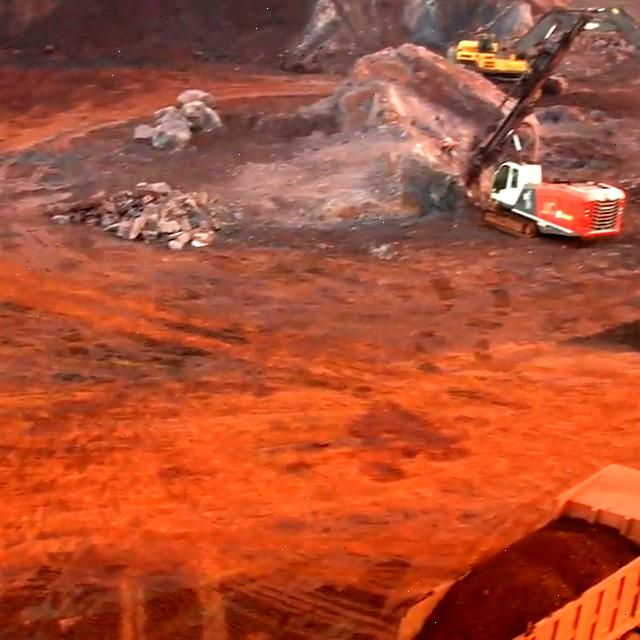Blast rig: (490, 164, 623, 237)
Dumper truck: (551, 492, 640, 640)
Excavator: (453, 19, 561, 92)
